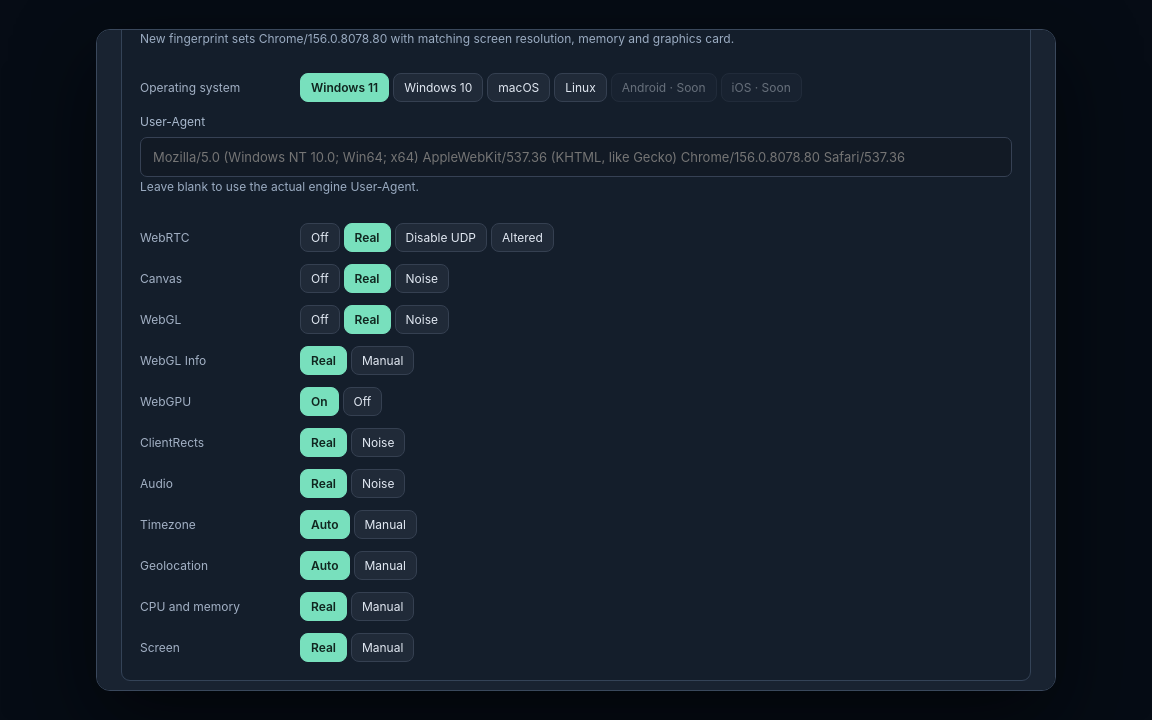
requires vendor and renderer for manual WebGL Info
(page scrolled)
Step 1. Click the button "Manual" in the row of "WebGL Info" → [383, 360], box [351,346,414,375]
(page scrolled)
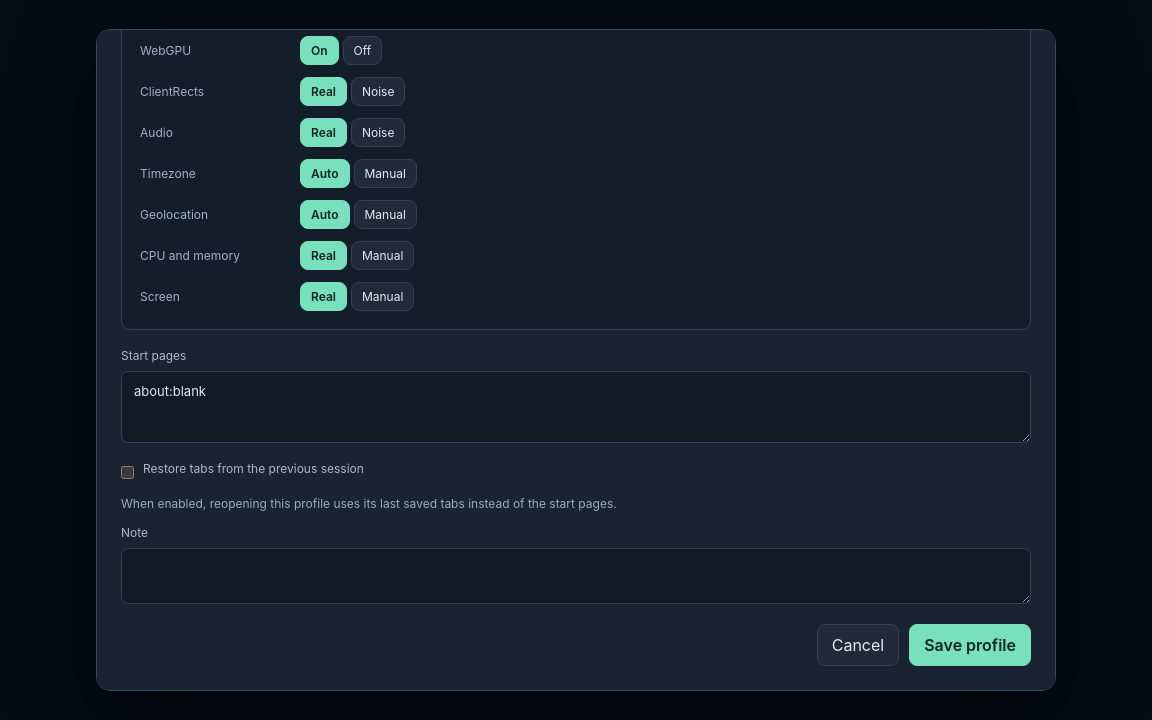
Step 2. Click the button "Save profile" → [970, 645], box [909,624,1031,666]
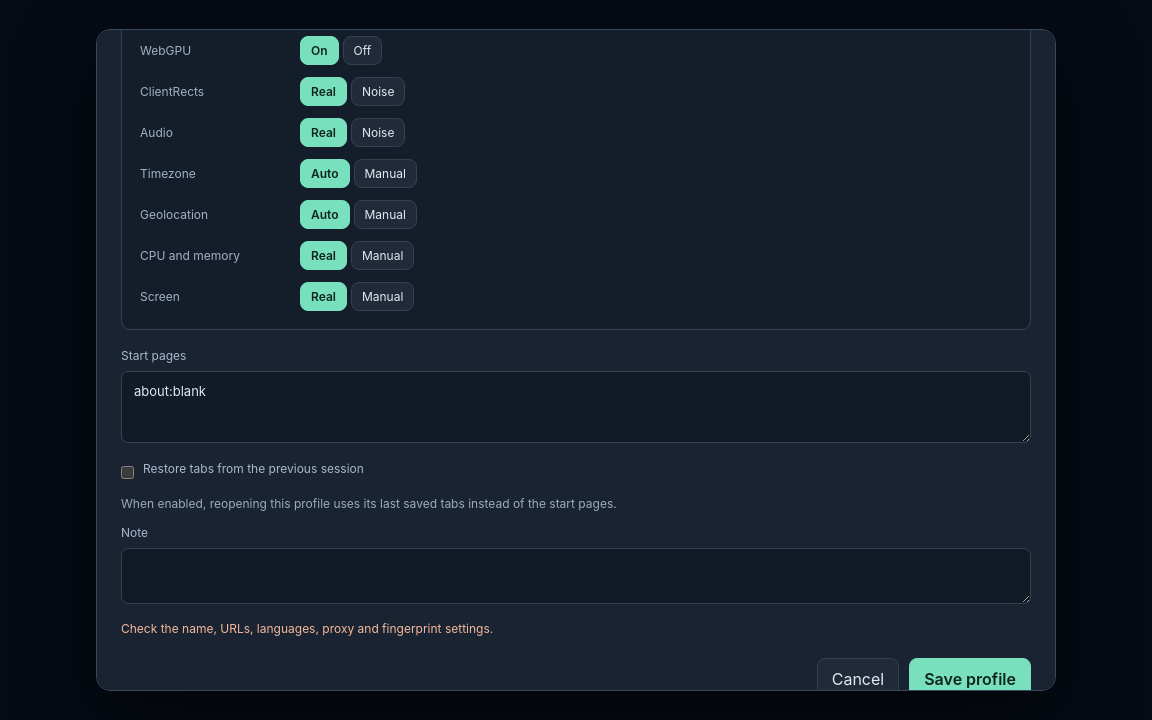
Check: the message shows "fingerprint", box [121,621,493,636]
